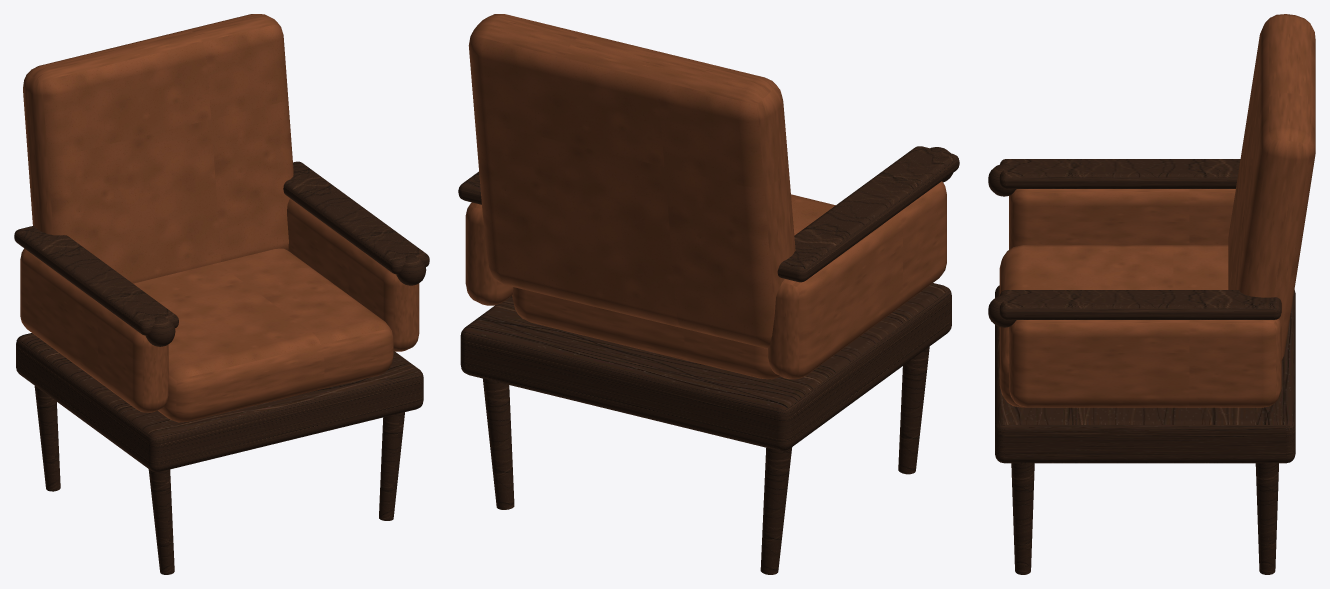
The model's file is poltrona-club-couro-conhaque.glb.
3 renders of one model, left to right at view 1: azimuth 30°, elevation 25°; view 2: azimuth 150°, elevation 25°; view 3: azimuth 270°, elevation 25°, orthographic. The views are drawn at different scales.
Visible parts, largest first — view 1: armchair; view 2: armchair; view 3: armchair.
Boxes of the visible parts, bbox=[...] form: armchair: bbox=[14, 14, 429, 574]; armchair: bbox=[458, 14, 959, 574]; armchair: bbox=[988, 14, 1315, 574].
Size of the model in its own units: 0.76 by 1.04 by 0.697.
2 materials, 2 textured.
